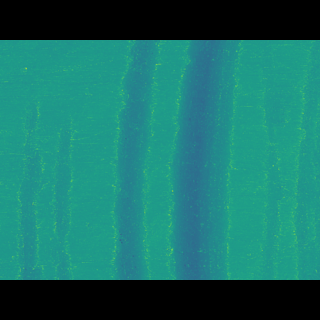Loch: (169, 71, 238, 251), (253, 72, 320, 251), (8, 115, 86, 250), (109, 69, 159, 250)
